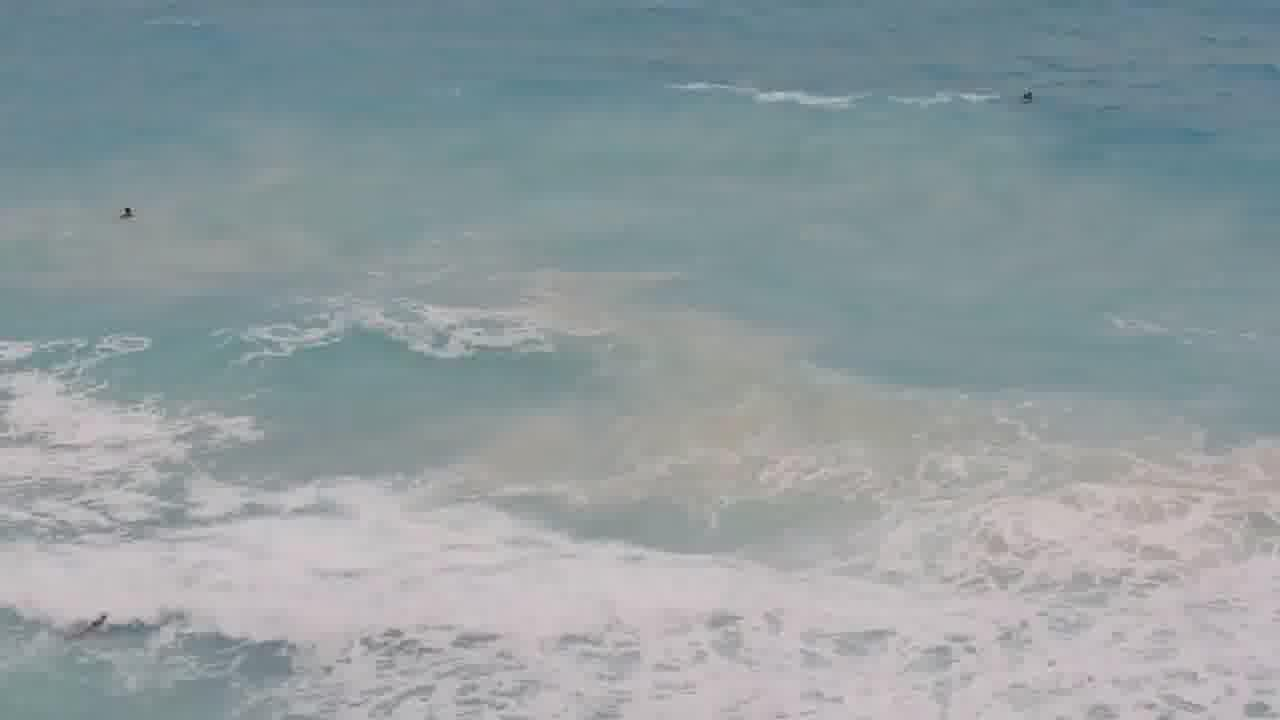swimmer: (1007, 82, 1048, 120), (120, 197, 131, 237)
